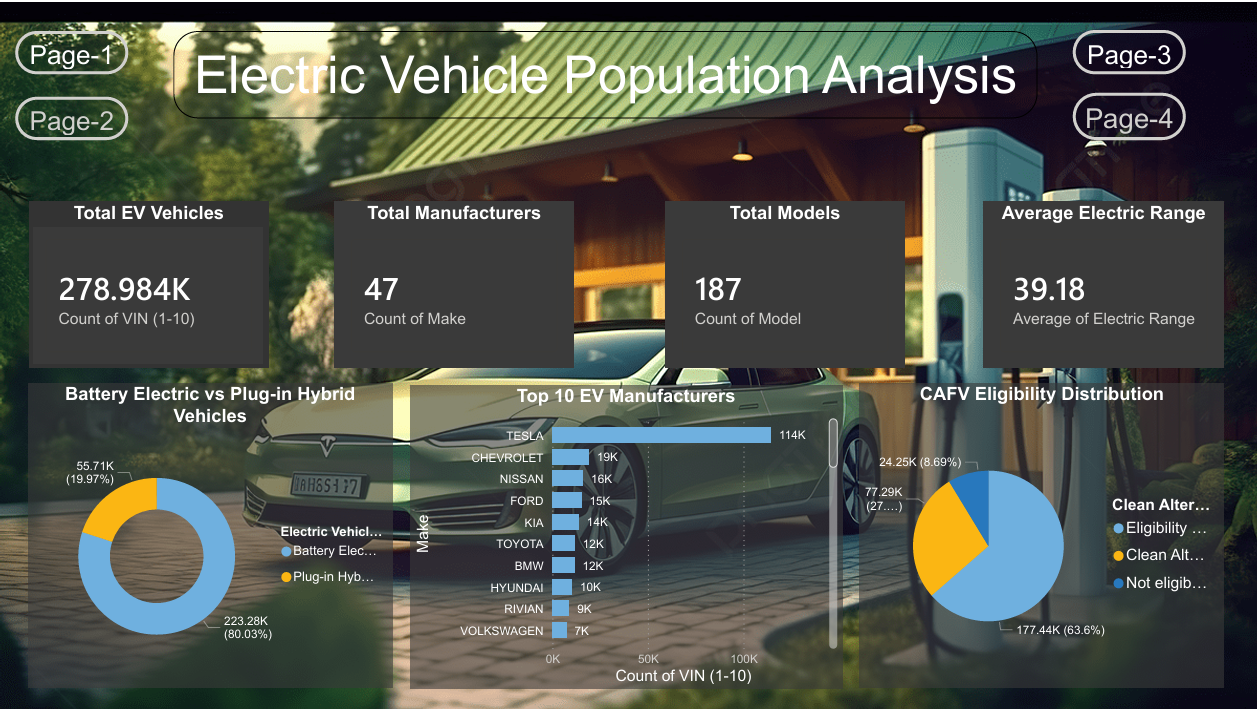

What the dashboard file says about the page in this screenshot:
{"tool":"powerbi","page":{"name":"Page 1","canvas":[1280,720],"ordinal":0},"visuals":[{"type":"clusteredBarChart","title":"Top 10 EV Manufacturers","fields":{"Y":["CountNonNull(cleaned_ev_data.VIN (1-10))"],"Category":["cleaned_ev_data.Make"]},"box":[416.7,390,440,309],"z":0},{"type":"donutChart","title":"Battery Electric vs Plug-in Hybrid Vehicles","fields":{"Category":["cleaned_ev_data.Electric Vehicle Type"],"Y":["CountNonNull(cleaned_ev_data.VIN (1-10))"]},"box":[28.3,388.5,370.6,309.6],"z":1000},{"type":"pieChart","title":"CAFV Eligibility Distribution","fields":{"Category":["cleaned_ev_data.Clean Alternative Fuel Vehicle (CAFV) Eligibility"],"Y":["CountNonNull(cleaned_ev_data.VIN (1-10))"]},"box":[875.2,388.5,370.6,309.6],"z":2000},{"type":"cardVisual","title":"Total EV Vehicles","fields":{"Data":["CountNonNull(cleaned_ev_data.VIN (1-10))"]},"box":[29.1,203.4,244.4,169.2],"z":3000},{"type":"cardVisual","title":"Total Manufacturers","fields":{"Data":["Count(cleaned_ev_data.Make)"]},"box":[340.1,203.4,244.4,169.2],"z":4000},{"type":"cardVisual","title":"Total Models","fields":{"Data":["Count(cleaned_ev_data.Model)"]},"box":[676.7,203.4,244.4,169.2],"z":5000},{"type":"cardVisual","title":"Average Electric Range","fields":{"Data":["Avg(cleaned_ev_data.Electric Range)"]},"box":[1001.4,203.4,244.4,169.2],"z":6000},{"type":"textbox","box":[176,29.1,880,88.7],"z":7000},{"type":"actionButton","box":[15.4,29.1,114.5,44.4],"z":8000},{"type":"actionButton","title":"Page-2","box":[15.4,95.7,114.5,44.4],"z":9000},{"type":"actionButton","box":[1091.7,28.3,115,45],"z":10000},{"type":"actionButton","box":[1091.7,91.7,115,48.3],"z":11000}]}

Visuals, with their boxes in screenshot pixels (x1, y1, x2, y2), scaled from the page's 1280x720 canvas onto the 1258x709 screenshot:
"Top 10 EV Manufacturers" clusteredBarChart: (410,384,842,688)
"Battery Electric vs Plug-in Hybrid Vehicles" donutChart: (28,383,392,687)
"CAFV Eligibility Distribution" pieChart: (860,383,1224,687)
"Total EV Vehicles" cardVisual: (29,200,269,367)
"Total Manufacturers" cardVisual: (334,200,574,367)
"Total Models" cardVisual: (665,200,905,367)
"Average Electric Range" cardVisual: (984,200,1224,367)
textbox: (173,29,1038,116)
actionButton: (15,29,128,72)
"Page-2" actionButton: (15,94,128,138)
actionButton: (1073,28,1186,72)
actionButton: (1073,90,1186,138)
